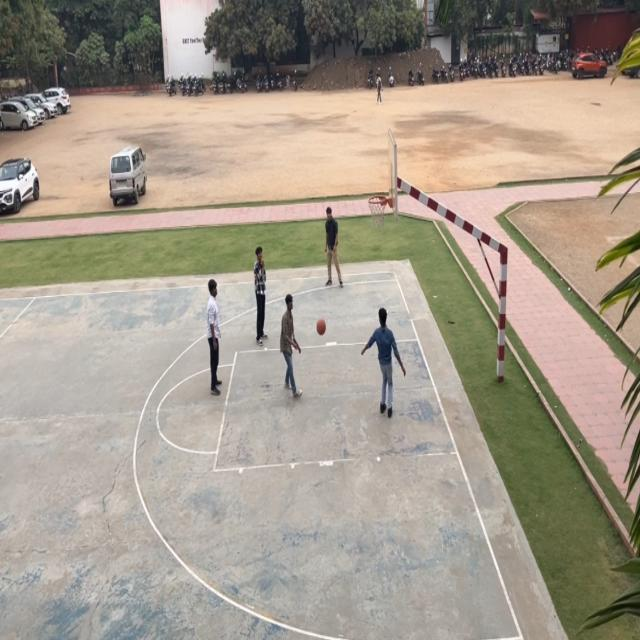basketball: (314, 314, 329, 341)
hoop: (368, 192, 388, 228)
